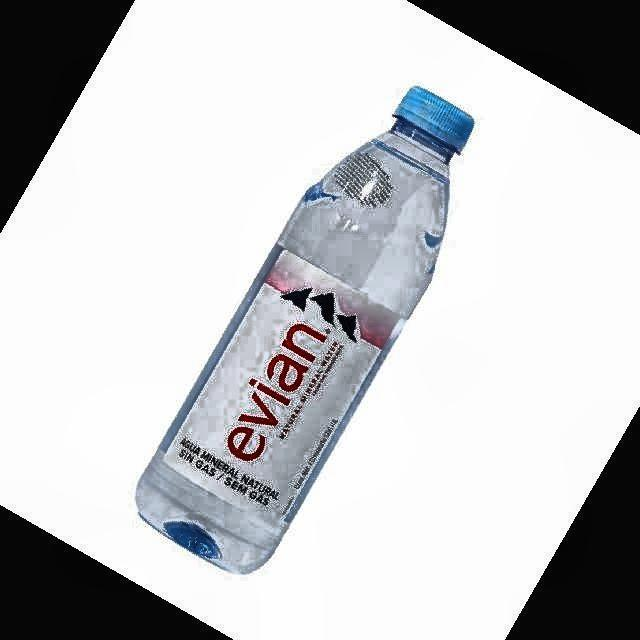plastic: (139, 88, 472, 572)
